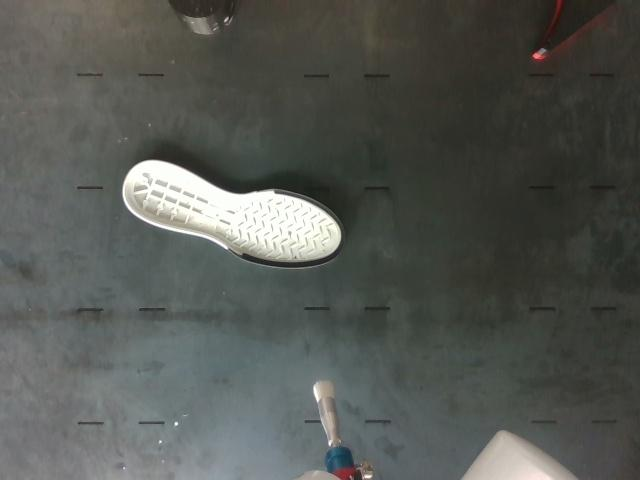shoes: (123, 160, 345, 268)
